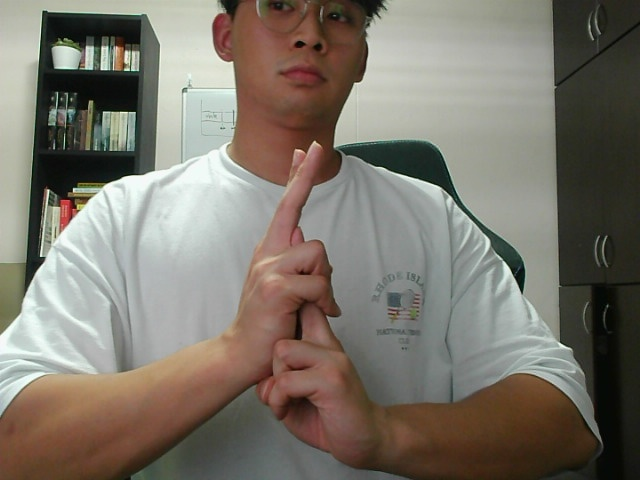Ram: (237, 131, 389, 470)
